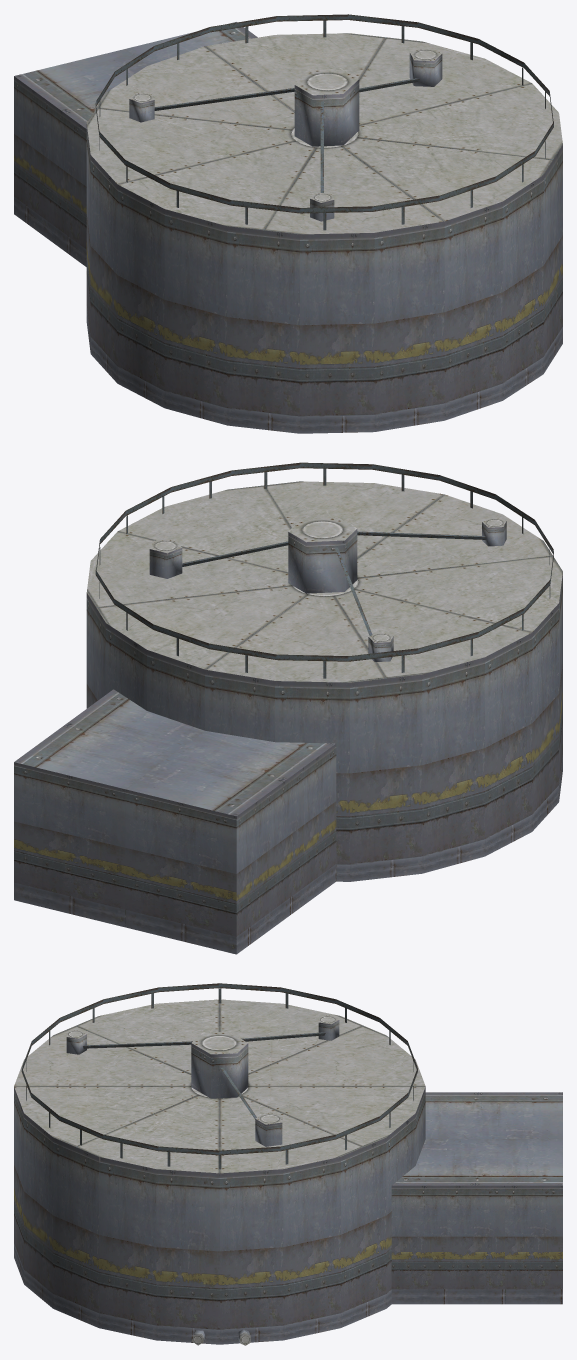
File: Building_Gccyg01_lod1.glb
3 views of the same model, one above another, from view 1: azimuth 30°, elevation 25°; view 2: azimuth 150°, elevation 25°; view 3: azimuth 270°, elevation 25° (orthographic). The views are drawn at different scales.
Parts seen in each view (by area): view 1: xiutz_gccyg_01_lod1_0; view 2: xiutz_gccyg_01_lod1_0; view 3: xiutz_gccyg_01_lod1_0.
Part boxes in pixels (box(x1,y1,x2,y2)): xiutz_gccyg_01_lod1_0: box(14, 14, 562, 433); xiutz_gccyg_01_lod1_0: box(14, 462, 562, 954); xiutz_gccyg_01_lod1_0: box(14, 983, 562, 1345).
Size of the model in its own units: 71.39 by 40.44 by 93.35.
2 materials, 2 textured.
